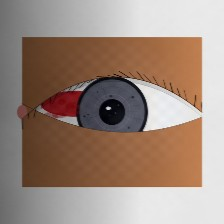hemorrhage_spot: (27, 65, 123, 142)
